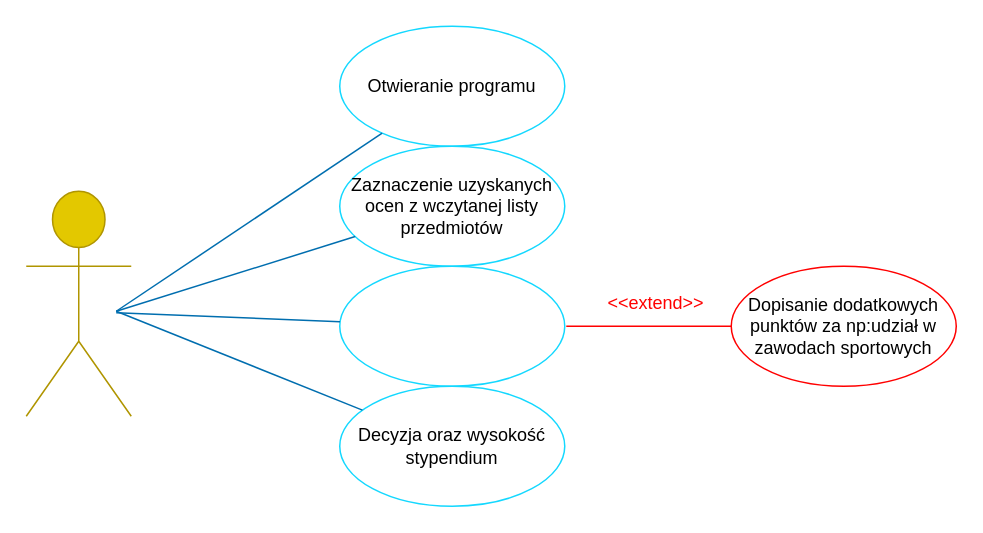
Image size: 983x533. Some labels were removed from this diagram. The box of each missing label's shape, as (x1, y1, x2, y2) in pixels:
Student: (25, 190, 131, 416)
Suma punktów stypendium oraz średnia ocen: (338, 265, 565, 386)
